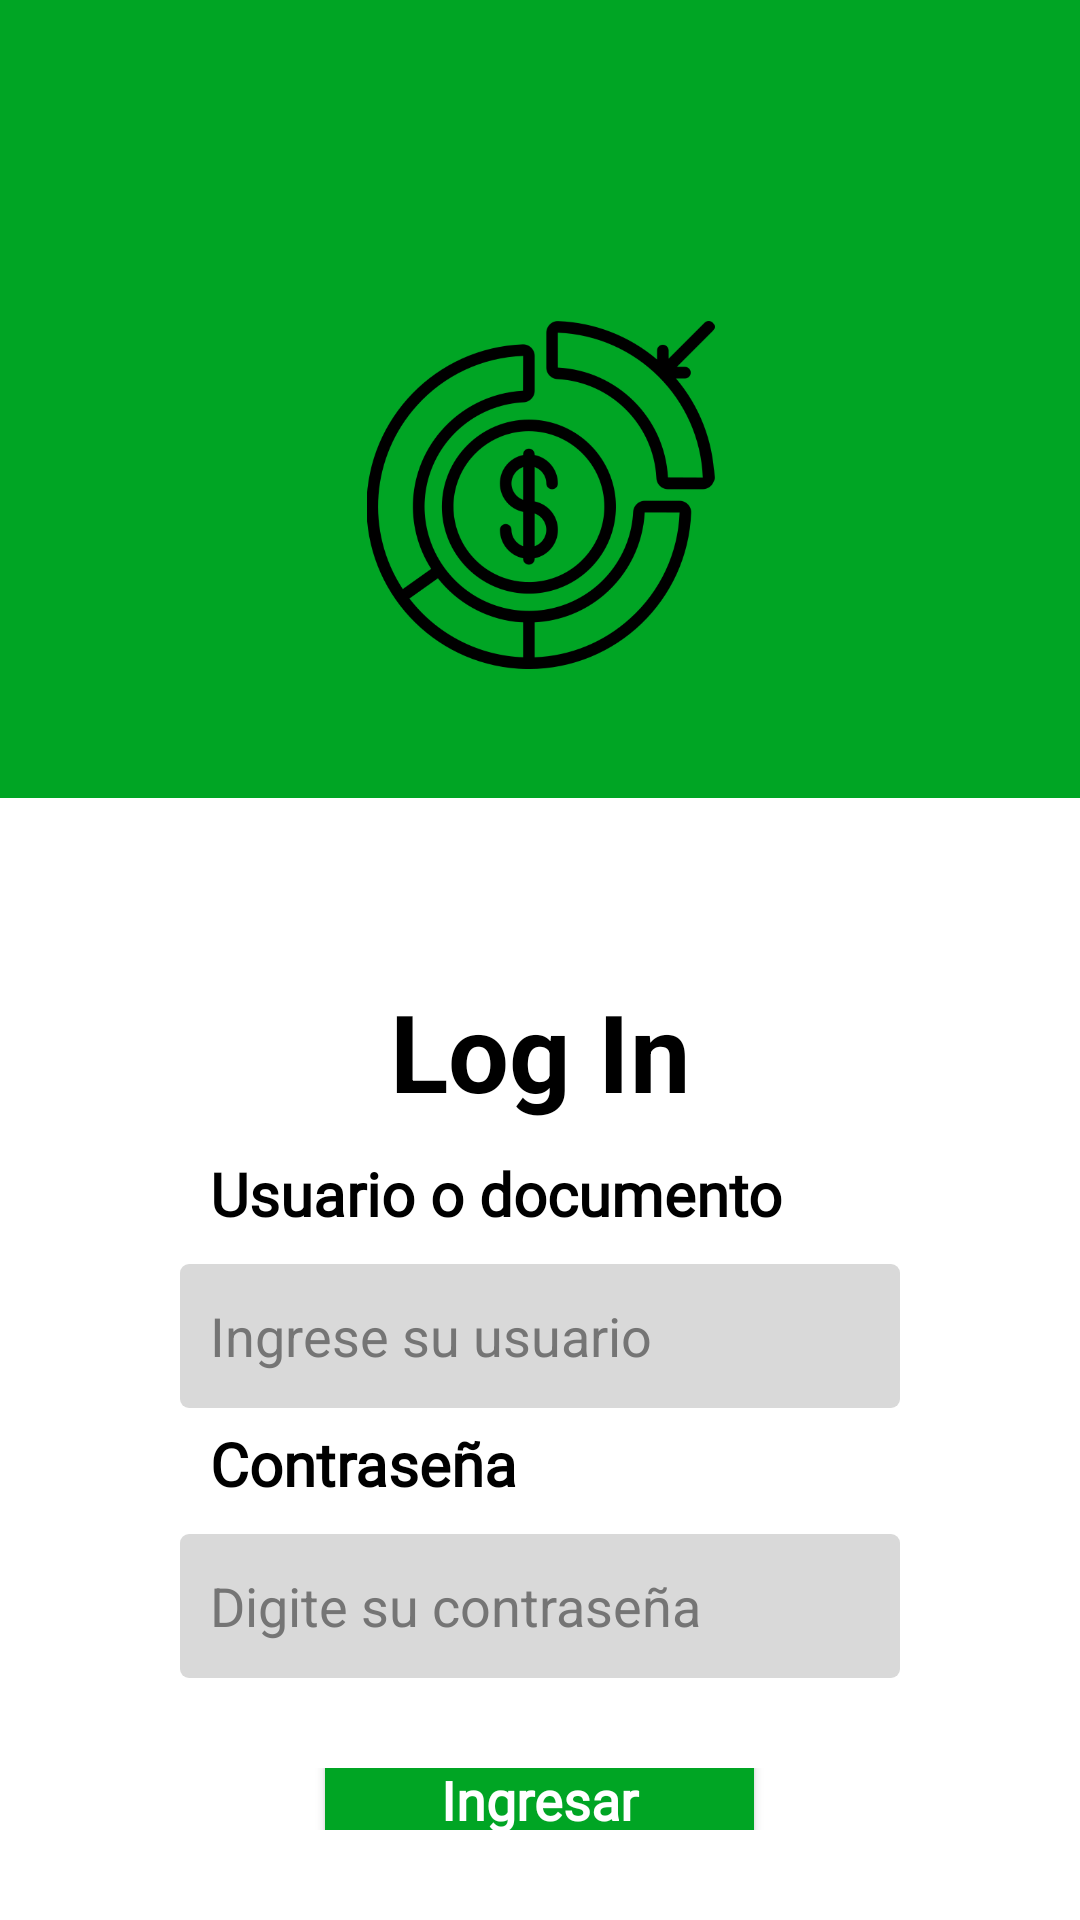

Named icons in this screenshot (1080x1920) and their centers, (x,y):
invest: (541,495)
